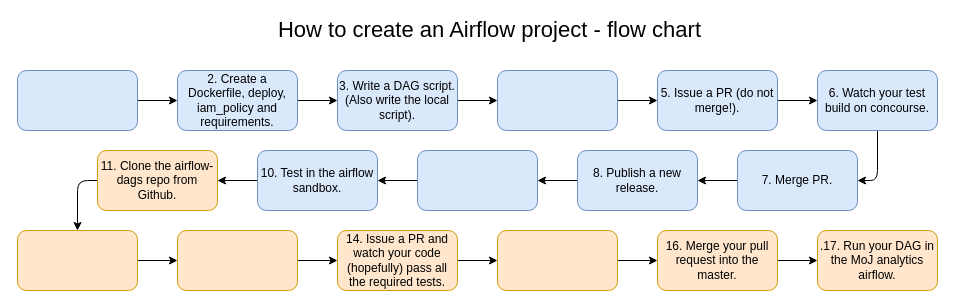
The diagram is 955 pixels wide and 308 high, and some of its shapes have lost their labels. Each missing label, with the centre of its shape:
"1. Set up a Github repository." goes at pixel 77 100.
"12. Create ypur own branch." goes at pixel 77 260.
"13. Commit and push your DAG script to this branch." goes at pixel 237 260.
"15. Ask Data Engineering to approve your request." goes at pixel 557 260.
"4. Commit and push these to a secondary branch in your repo." goes at pixel 557 100.
"9. Watch the deploy on concourse." goes at pixel 477 180.
